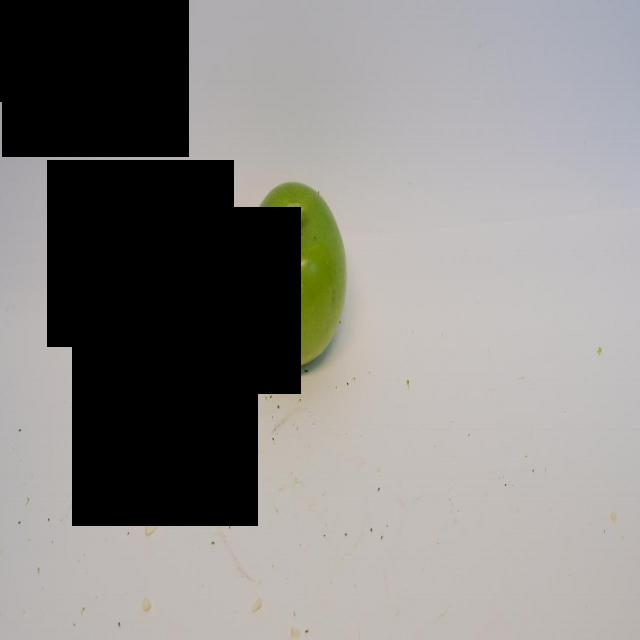apple: (241, 180, 348, 369)
